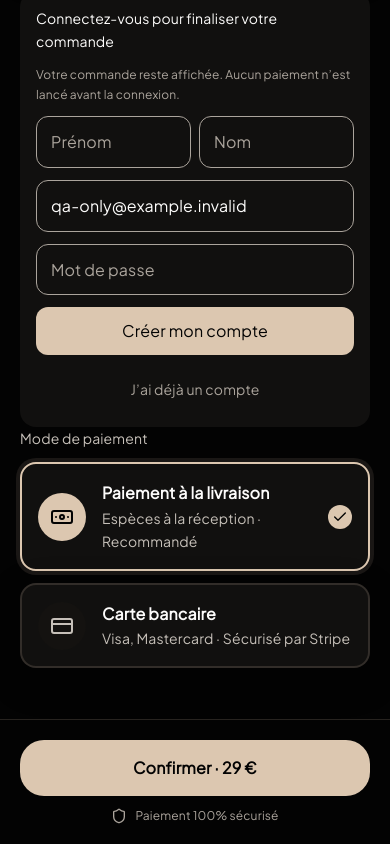
Test case: isolated checkout brand › keeps both payment choices and dark foregrounds on selected champagne controls
(page scrolled)
Check: the button "Paiement à la livraison Espèces à la réception · Recommandé" is shown, box [20,462,370,571]
Check: the button "Confirmer · 29 €" is shown, box [20,740,370,796]
Click the button "Carte bancaire Visa, Mastercard · Sécurisé par Stripe" at (195, 626), box [20,583,370,668]
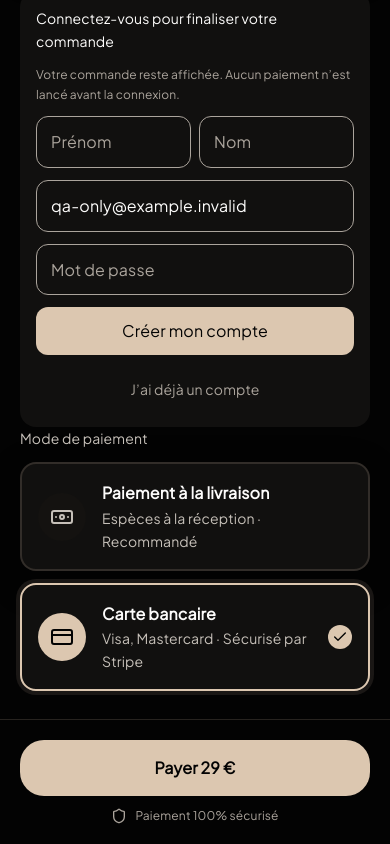
Check: the button "Payer 29 €" is shown, box [20,740,370,796]
